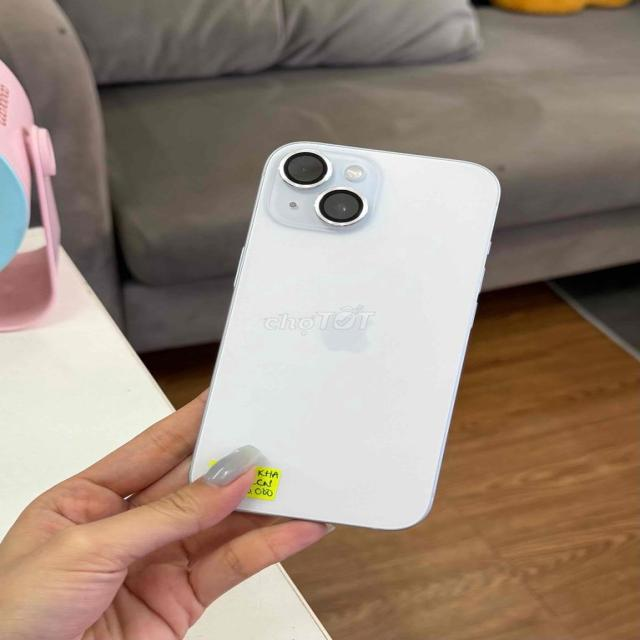gen_15: (195, 123, 510, 550)
